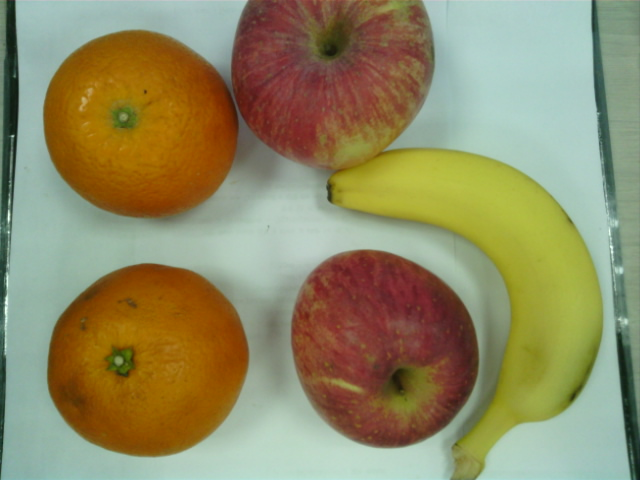normal_apple: (291, 248, 478, 449), (235, 1, 436, 168)
normal_banana: (326, 149, 604, 480)
normal_orange: (47, 264, 249, 456), (45, 30, 236, 219)
